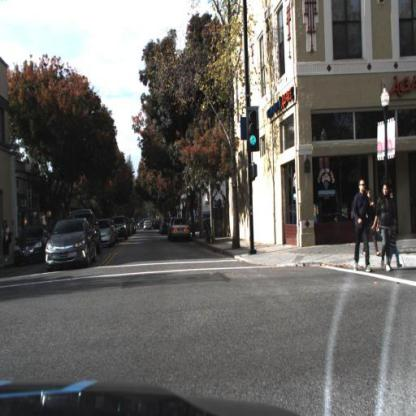car: (45, 216, 97, 270), (13, 222, 56, 264), (96, 216, 116, 252), (170, 216, 193, 242)
pedestrian: (350, 178, 374, 275), (374, 183, 395, 275)
trafficLight: (246, 106, 261, 150)
